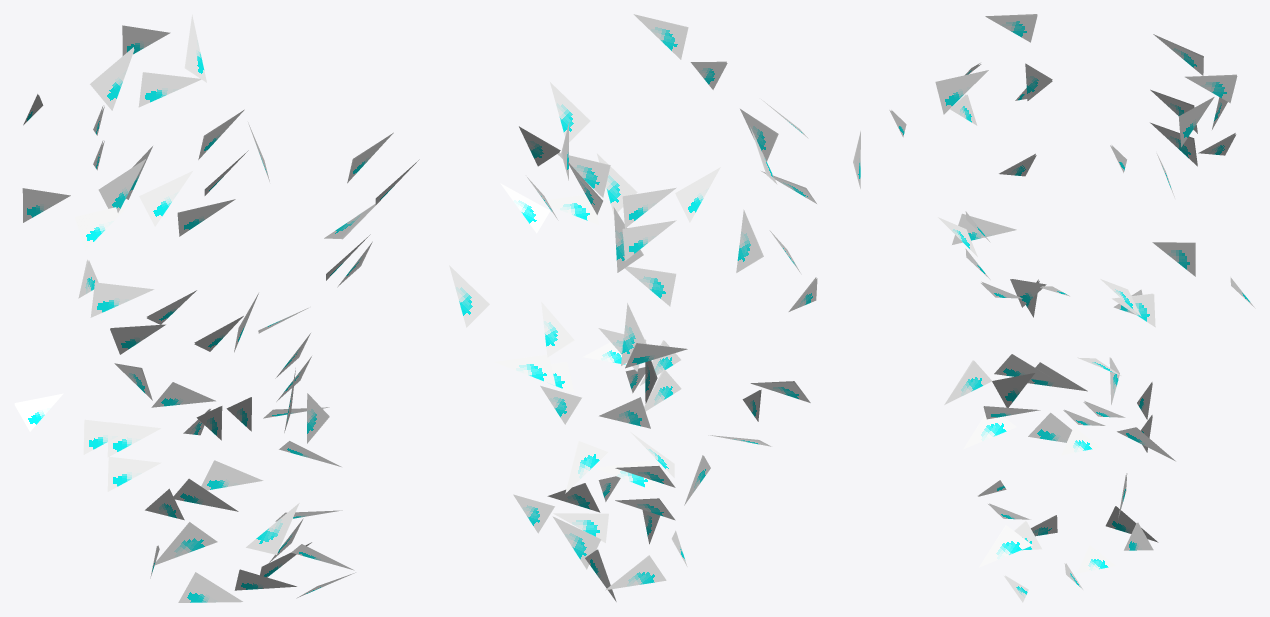
File: items__watertornado.glb
3 renders of one model, left to right at view 1: azimuth 30°, elevation 25°; view 2: azimuth 150°, elevation 25°; view 3: azimuth 270°, elevation 25°, orthographic. The views are drawn at different scales.
Visible parts, largest first — view 1: leaves128; view 2: leaves128; view 3: leaves128.
Boxes of the visible parts, x1=… form: leaves128: x1=14, y1=14, x2=419, y2=602; leaves128: x1=449, y1=14, x2=860, y2=601; leaves128: x1=889, y1=14, x2=1255, y2=602.
Size of the model in its own units: 7.01 by 9.44 by 6.3.
Materials: 1 (1 with a texture image).
